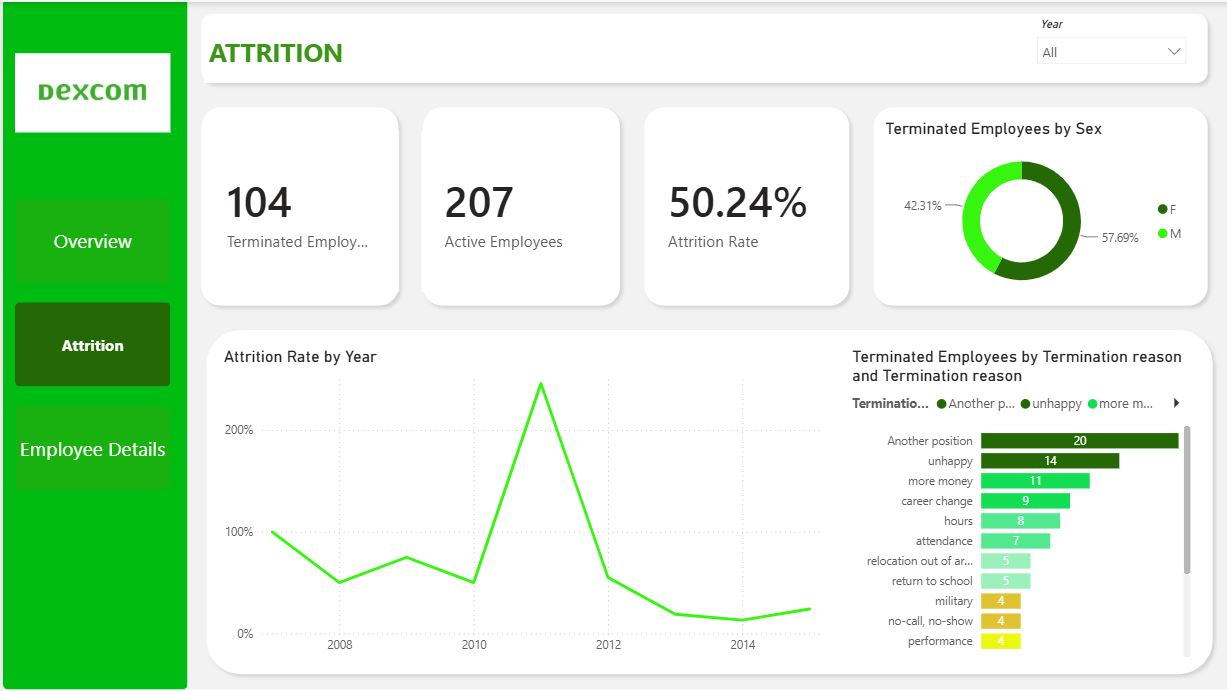

Layout of this report page (visuals, bound fields, positions):
{"tool":"powerbi","page":{"name":"Attrition","canvas":[1280,720],"ordinal":1},"visuals":[{"type":"slicer","fields":{"Values":["Date Table.Year"]},"box":[1067.5,10.9,175.1,73.5],"z":0},{"type":"cardVisual","fields":{"Data":["Measures ||.Attrition Rate"]},"box":[669,134.4,211,167.2],"z":1000},{"type":"textbox","box":[209.4,28.1,245.4,56.3],"z":2000},{"type":"cardVisual","fields":{"Data":["Measures ||.Active Employees"]},"box":[436.1,134.4,203.2,167.2],"z":3000},{"type":"cardVisual","fields":{"Data":["Measures ||.Terminated Employees"]},"box":[209.4,134.4,203.2,167.2],"z":4000},{"type":"donutChart","fields":{"Y":["Measures ||.Terminated Employees"],"Category":["HR_Dataset.Sex"]},"box":[914.3,121.9,328.2,192.2],"z":5000},{"type":"lineChart","fields":{"Y":["Measures ||.Attrition Rate"],"Category":["Date Table.Year","Date Table.Month Name"]},"box":[225.1,359.5,633,328.2],"z":6000},{"type":"barChart","fields":{"Y":["Measures ||.Terminated Employees"],"Category":["HR_Dataset.TermReason"],"Series":["HR_Dataset.TermReason"]},"box":[880,359.5,362.6,328.2],"z":7000},{"type":"pageNavigator","box":[12.1,205.2,162.1,305.2],"z":8000},{"type":"image","box":[12.1,0,162.1,189.7],"z":8001}]}

Visuals, with their boxes on the page's 1280x720 design canvas (x1, y1, x2, y2). These are canvas units, not pixel positions in the 1227x691 screenshot, which may show the page scaled, cropped or inside an application window:
slicer - Date Table.Year: <region>1068, 11, 1243, 84</region>
cardVisual - Measures ||.Attrition Rate: <region>669, 134, 880, 302</region>
textbox: <region>209, 28, 455, 84</region>
cardVisual - Measures ||.Active Employees: <region>436, 134, 639, 302</region>
cardVisual - Measures ||.Terminated Employees: <region>209, 134, 413, 302</region>
donutChart - Measures ||.Terminated Employees x HR_Dataset.Sex: <region>914, 122, 1242, 314</region>
lineChart - Measures ||.Attrition Rate x Date Table.Year: <region>225, 360, 858, 688</region>
barChart - Measures ||.Terminated Employees x HR_Dataset.TermReason: <region>880, 360, 1243, 688</region>
pageNavigator: <region>12, 205, 174, 510</region>
image: <region>12, 0, 174, 190</region>
